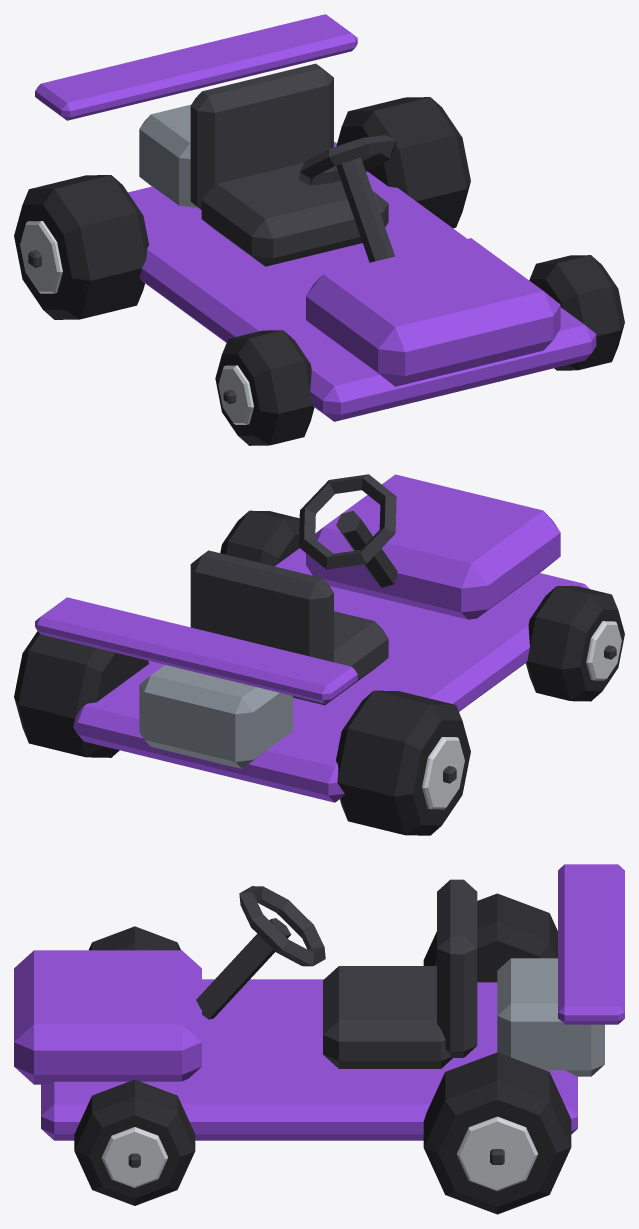
The model's file is PurpleGoKart.fbx.
3 views of the same model, one above another, from view 1: azimuth 30°, elevation 25°; view 2: azimuth 150°, elevation 25°; view 3: azimuth 270°, elevation 25° (orthographic). The views are drawn at different scales.
Parts seen in each view (by area): view 1: PurpleGoKart, PurpleGoKart_WheelBR, PurpleGoKart_WheelBL, PurpleGoKart_WheelFR, PurpleGoKart_WheelFL; view 2: PurpleGoKart, PurpleGoKart_WheelBR, PurpleGoKart_WheelBL, PurpleGoKart_WheelFR, PurpleGoKart_WheelFL; view 3: PurpleGoKart, PurpleGoKart_WheelBL, PurpleGoKart_WheelFL, PurpleGoKart_WheelBR, PurpleGoKart_WheelFR.
Part boxes in pixels (x1=…): PurpleGoKart: x1=35, y1=14, x2=596, y2=421; PurpleGoKart_WheelBR: x1=14, y1=175, x2=148, y2=319; PurpleGoKart_WheelBL: x1=336, y1=97, x2=470, y2=228; PurpleGoKart_WheelFR: x1=215, y1=330, x2=314, y2=445; PurpleGoKart_WheelFL: x1=529, y1=255, x2=624, y2=370; PurpleGoKart: x1=35, y1=474, x2=589, y2=802; PurpleGoKart_WheelBR: x1=336, y1=690, x2=470, y2=835; PurpleGoKart_WheelBL: x1=14, y1=631, x2=148, y2=757; PurpleGoKart_WheelFR: x1=526, y1=586, x2=624, y2=701; PurpleGoKart_WheelFL: x1=220, y1=510, x2=299, y2=566; PurpleGoKart: x1=14, y1=864, x2=624, y2=1140; PurpleGoKart_WheelBL: x1=423, y1=1052, x2=571, y2=1214; PurpleGoKart_WheelFL: x1=74, y1=1079, x2=195, y2=1205; PurpleGoKart_WheelBR: x1=423, y1=893, x2=557, y2=982; PurpleGoKart_WheelFR: x1=89, y1=926, x2=180, y2=950.
Size of the model in its own units: 3.72 by 1.88 by 4.55.
Materials: 1 (1 with a texture image).
